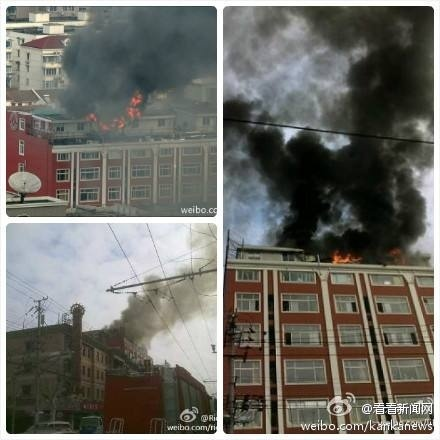fire: (90, 93, 146, 128), (330, 248, 360, 266)
